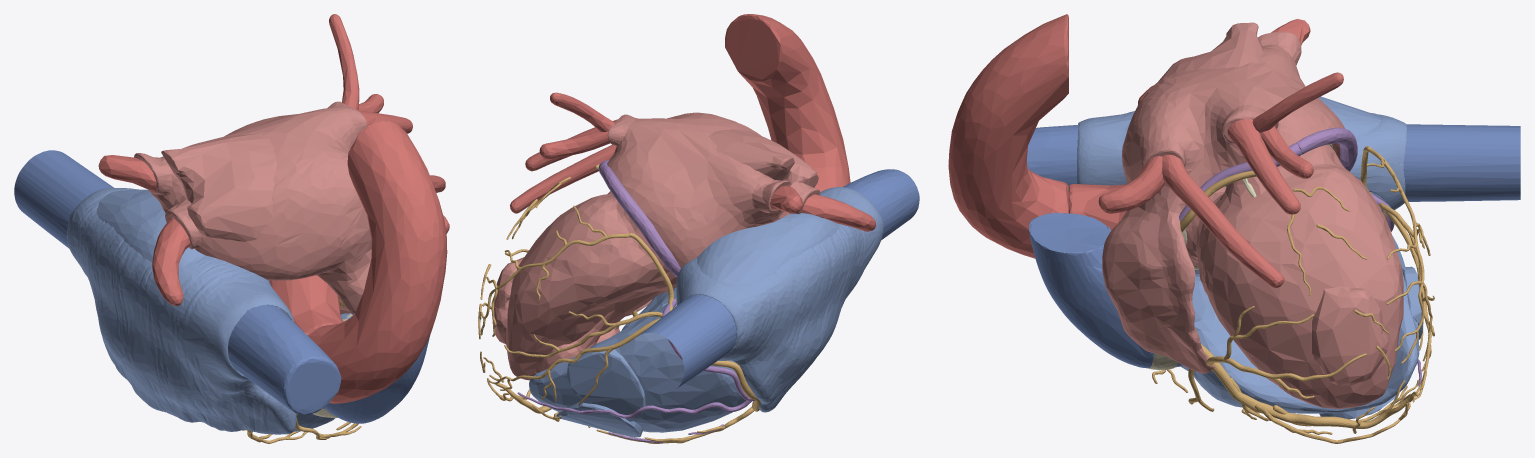
The model's file is heart.glb.
3 views of the same model, side by side, from view 1: azimuth 30°, elevation 25°; view 2: azimuth 150°, elevation 25°; view 3: azimuth 270°, elevation 25° (orthographic). The views are drawn at different scales.
Visible parts, largest first — view 1: left_atrium, right_atrium, aorta, superior_vena_cava, pulmonary_veins, inferior_vena_cava, pulmonary_artery, coronary_arteries, right_ventricle; view 2: right_atrium, left_atrium, left_ventricle, right_ventricle, aorta, coronary_arteries, pulmonary_veins, inferior_vena_cava, cardiac_veins, superior_vena_cava; view 3: left_ventricle, left_atrium, aorta, pulmonary_veins, coronary_arteries, pulmonary_artery, inferior_vena_cava, right_ventricle, right_atrium, superior_vena_cava, cardiac_veins.
Part boxes in pixels (x1,y1,x2,y2): left_atrium: [134, 101, 371, 314]; right_atrium: [66, 188, 296, 434]; aorta: [269, 120, 447, 403]; superior_vena_cava: [228, 304, 341, 415]; pulmonary_veins: [98, 14, 449, 305]; inferior_vena_cava: [14, 150, 113, 248]; pulmonary_artery: [324, 313, 430, 423]; coronary_arteries: [242, 298, 361, 443]; right_ventricle: [294, 313, 350, 431]; right_atrium: [676, 187, 883, 412]; left_atrium: [607, 112, 819, 316]; left_ventricle: [492, 193, 676, 380]; right_ventricle: [529, 288, 749, 437]; aorta: [725, 14, 850, 191]; coronary_arteries: [478, 164, 760, 443]; pulmonary_veins: [510, 92, 876, 231]; inferior_vena_cava: [639, 294, 736, 388]; cardiac_veins: [517, 159, 755, 443]; superior_vena_cava: [843, 169, 919, 240]; left_ventricle: [1185, 144, 1403, 409]; left_atrium: [1102, 22, 1344, 373]; aorta: [948, 14, 1126, 258]; pulmonary_veins: [1098, 19, 1343, 287]; coronary_arteries: [1152, 146, 1434, 443]; pulmonary_artery: [1029, 212, 1154, 368]; inferior_vena_cava: [1403, 124, 1520, 201]; right_ventricle: [1176, 236, 1422, 419]; right_atrium: [1077, 96, 1406, 274]; superior_vena_cava: [1027, 124, 1078, 192]; cardiac_veins: [1179, 127, 1421, 386].
Bounding box in the file's own units: 119 × 127 × 167.
